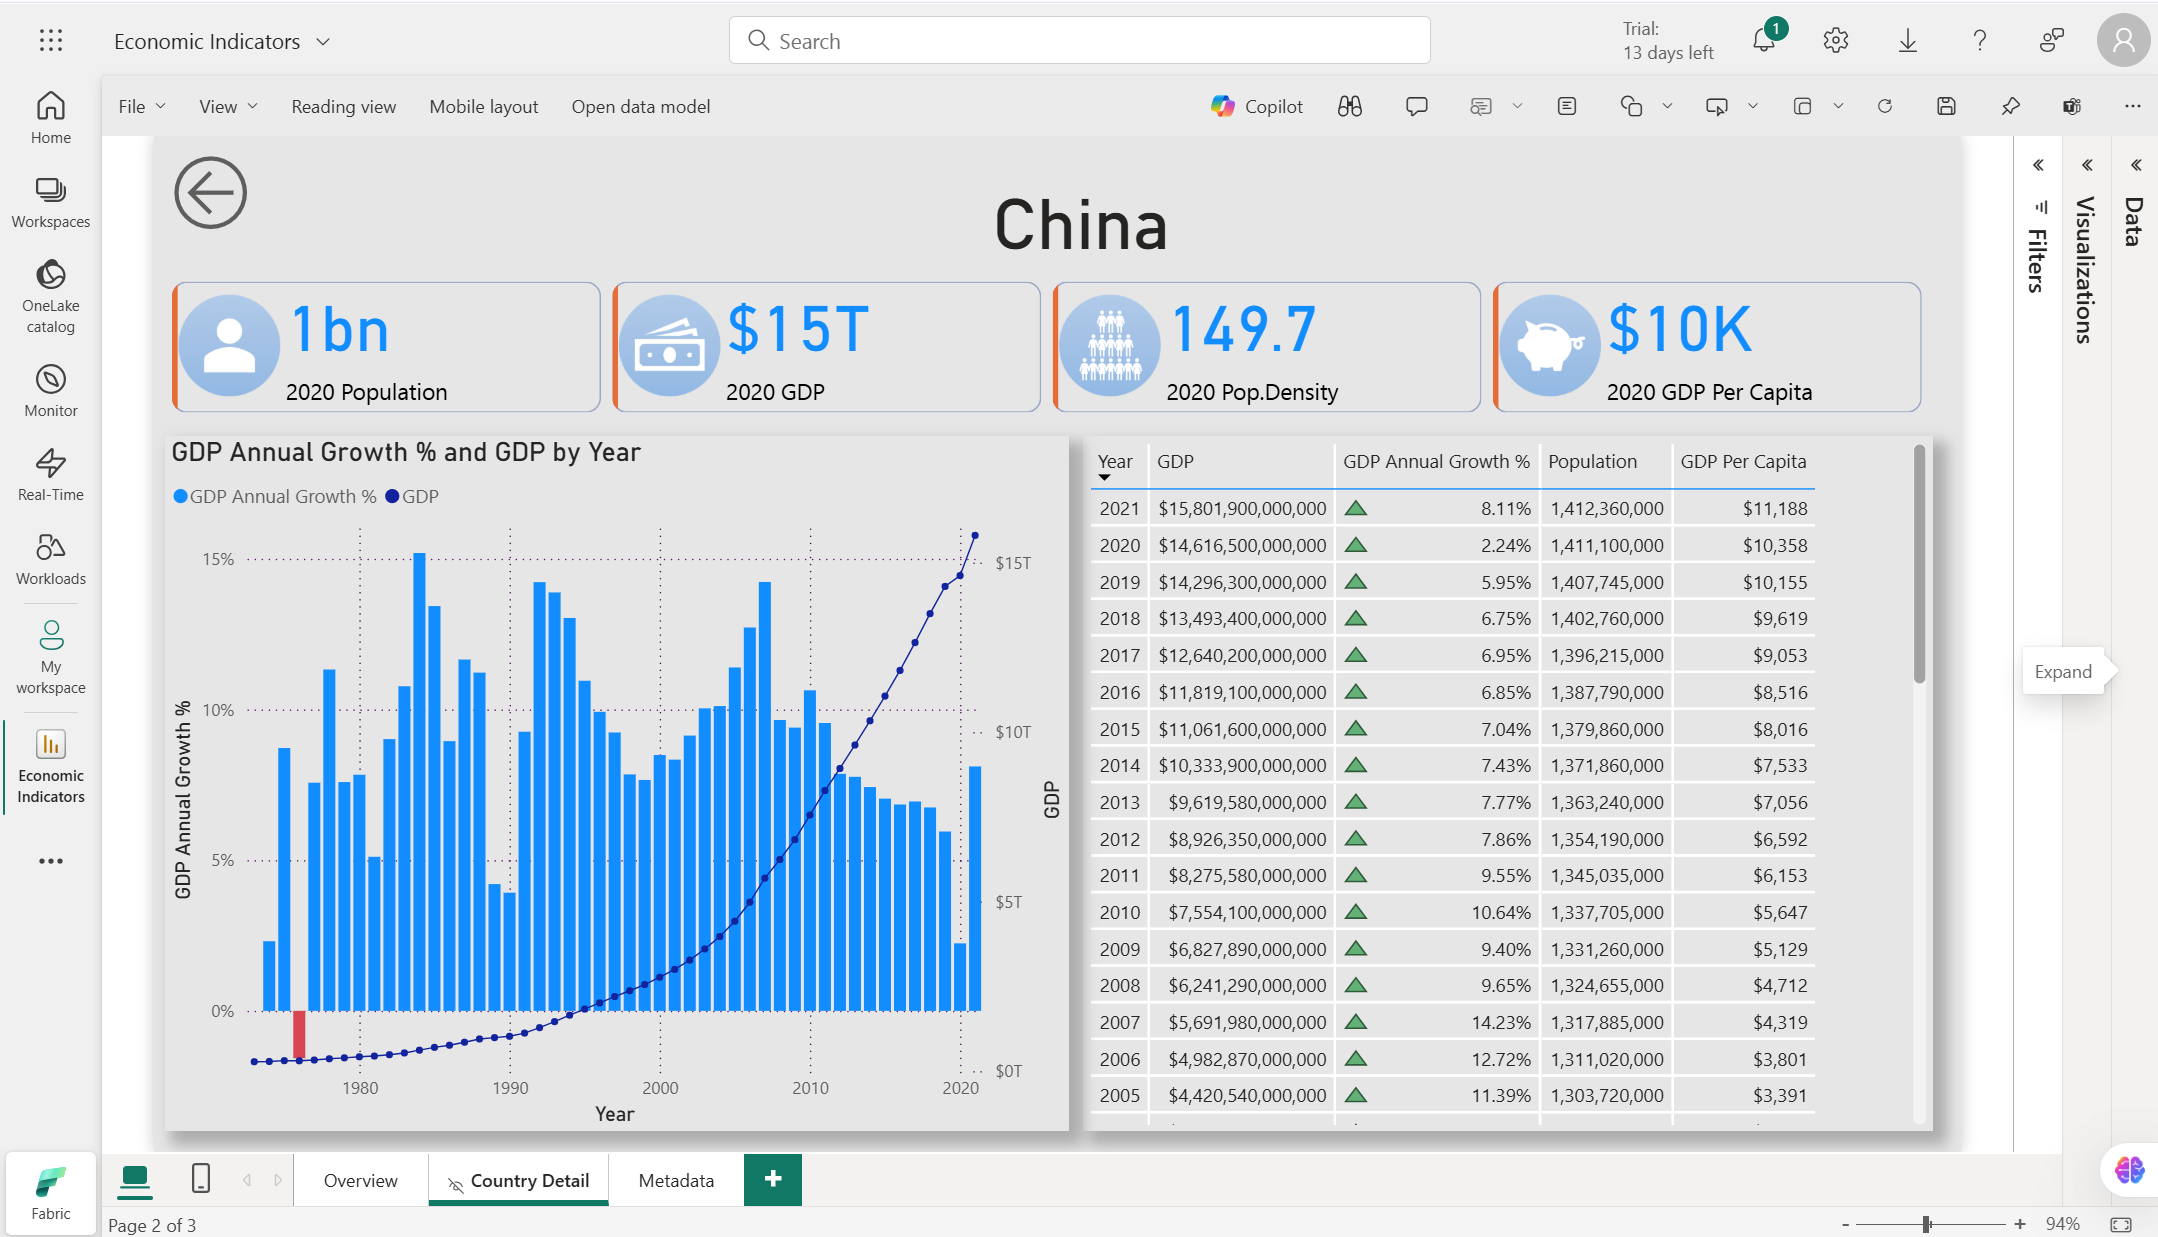

What the dashboard file says about the page in this screenshot:
{"tool":"powerbi","page":{"name":"Country Detail","canvas":[1280,720],"ordinal":1},"visuals":[{"type":"actionButton","box":[7.8,7.8,65.5,65.5],"z":0},{"type":"tableEx","fields":{"Values":["Indicators.Year","_Measures.GDP","_Measures.GDP Annual Growth %","_Measures.Population","_Measures.GDP Per Capita"]},"box":[658,213.1,602.9,492.7],"z":1000},{"type":"lineStackedColumnComboChart","fields":{"Category":["Indicators.Year"],"Y2":["_Measures.GDP"],"Y":["_Measures.GDP Annual Growth %"]},"box":[7.8,213.1,640.4,492.8],"z":2000},{"type":"cardVisual","fields":{"Data":["_Measures.Selected Country"]},"box":[117.6,7.8,1079.9,89.9],"z":3000},{"type":"cardVisual","fields":{"Data":["_Measures.2020 Population","_Measures.2020 GDP","_Measures.2020 Pop.Density","_Measures.2020 GDP Per Capita"]},"box":[7.3,97.7,1253.6,103.9],"z":4000}]}

Visuals, with their boxes on the page's 1280x720 design canvas (x1, y1, x2, y2). These are canvas units, not pixel positions in the 2158x1237 screenshot, which may show the page scaled, cropped or inside an application window:
actionButton: x1=8, y1=8, x2=73, y2=73
tableEx - Indicators.Year x _Measures.GDP: x1=658, y1=213, x2=1261, y2=706
lineStackedColumnComboChart - Indicators.Year x _Measures.GDP: x1=8, y1=213, x2=648, y2=706
cardVisual - _Measures.Selected Country: x1=118, y1=8, x2=1198, y2=98
cardVisual - _Measures.2020 Population x _Measures.2020 GDP: x1=7, y1=98, x2=1261, y2=202
